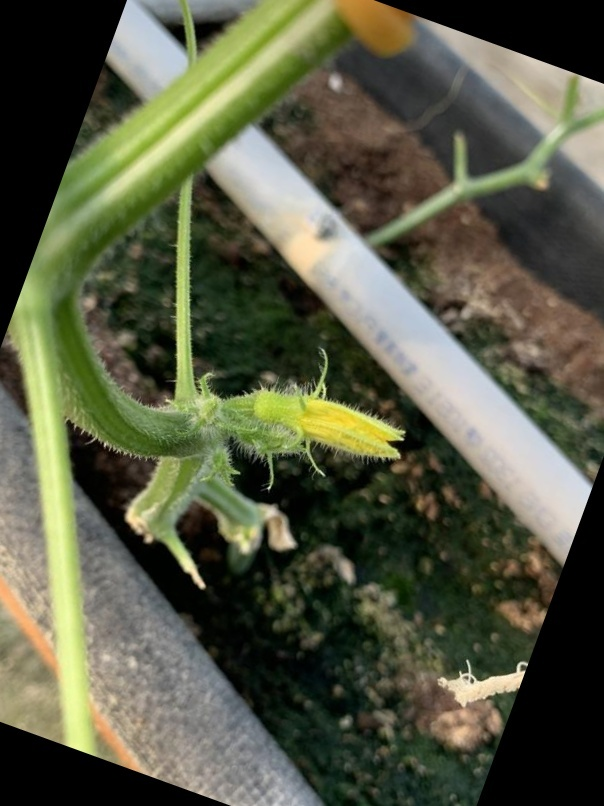bud: (223, 384, 408, 479)
